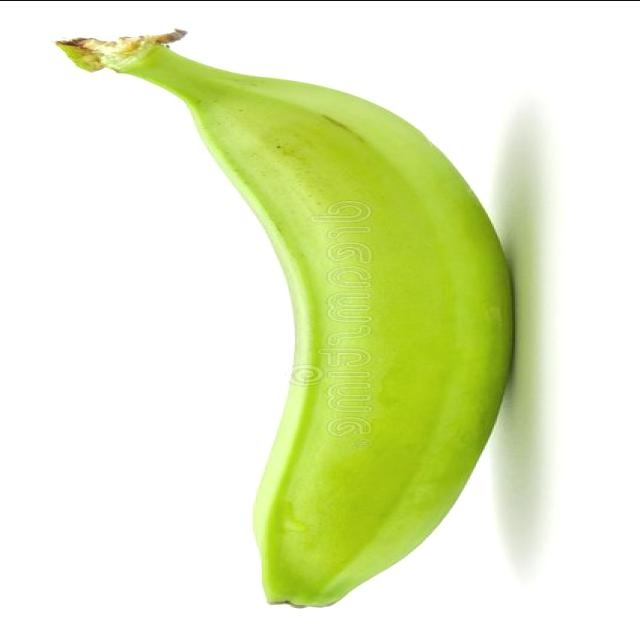agrume: (56, 31, 524, 611)
